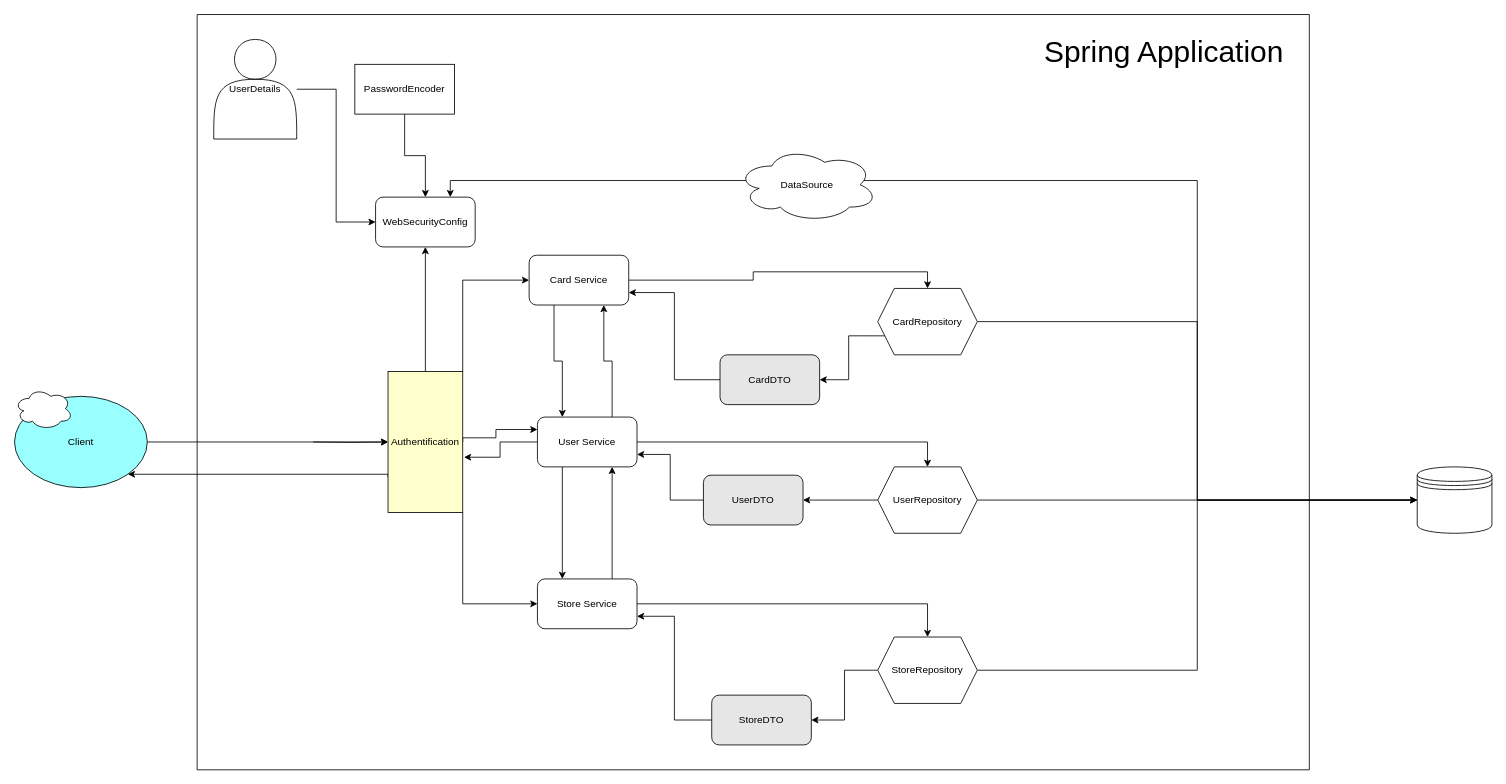
Some shapes in this 1506 by 784 pixel diagram are drawn without their labels. Here are the shapes that lost their labels. From the top down, the centre of each, then its label:
point (43, 408): UI
point (1454, 499): BDD
